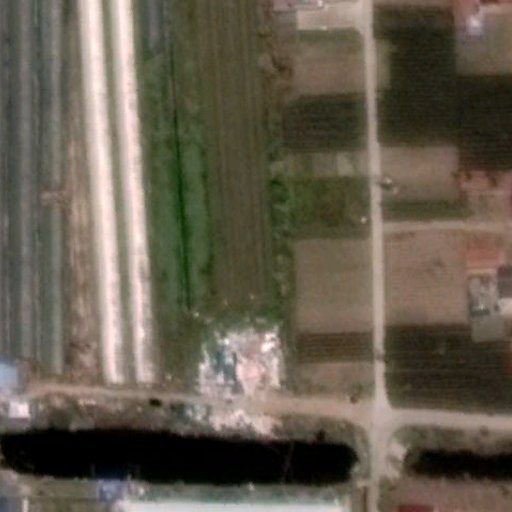msw: (202, 328, 284, 436)
